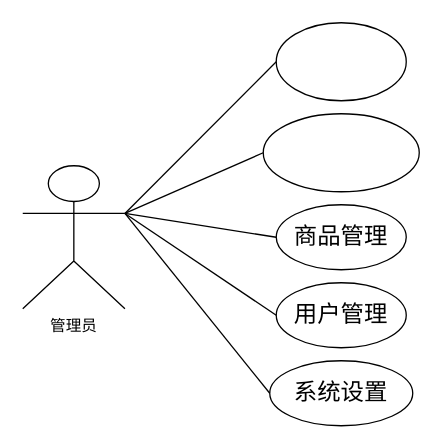
Some shapes in this 442 by 448 pixel diagram are drawn without their labels. The shapes that lost their labels are listed below. From the top down, each one's centre as x and y in pixels, then its label:
the point at 340,61: 登录
the point at 340,152: 管理咨询信息
